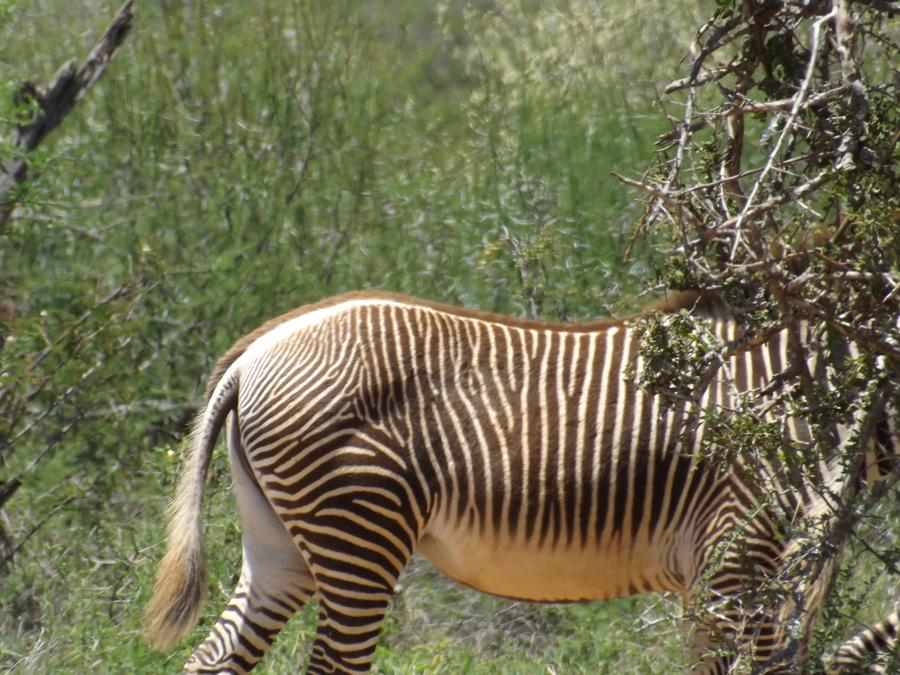zebra_grevys: (196, 265, 665, 597)
